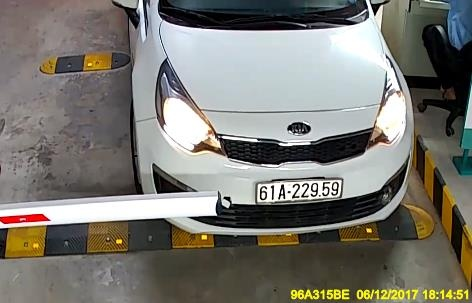plate: (248, 163, 347, 212)
